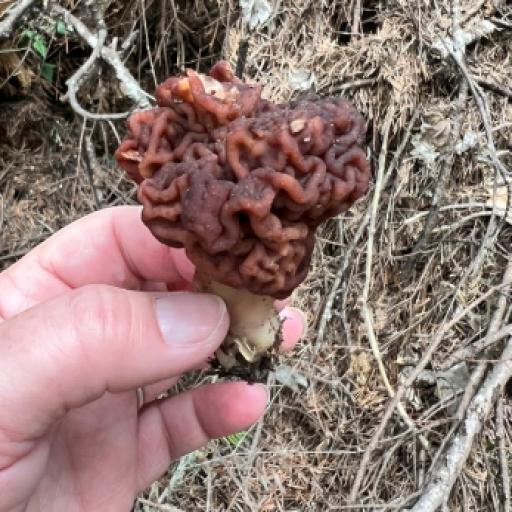mushroom: (122, 39, 371, 304)
